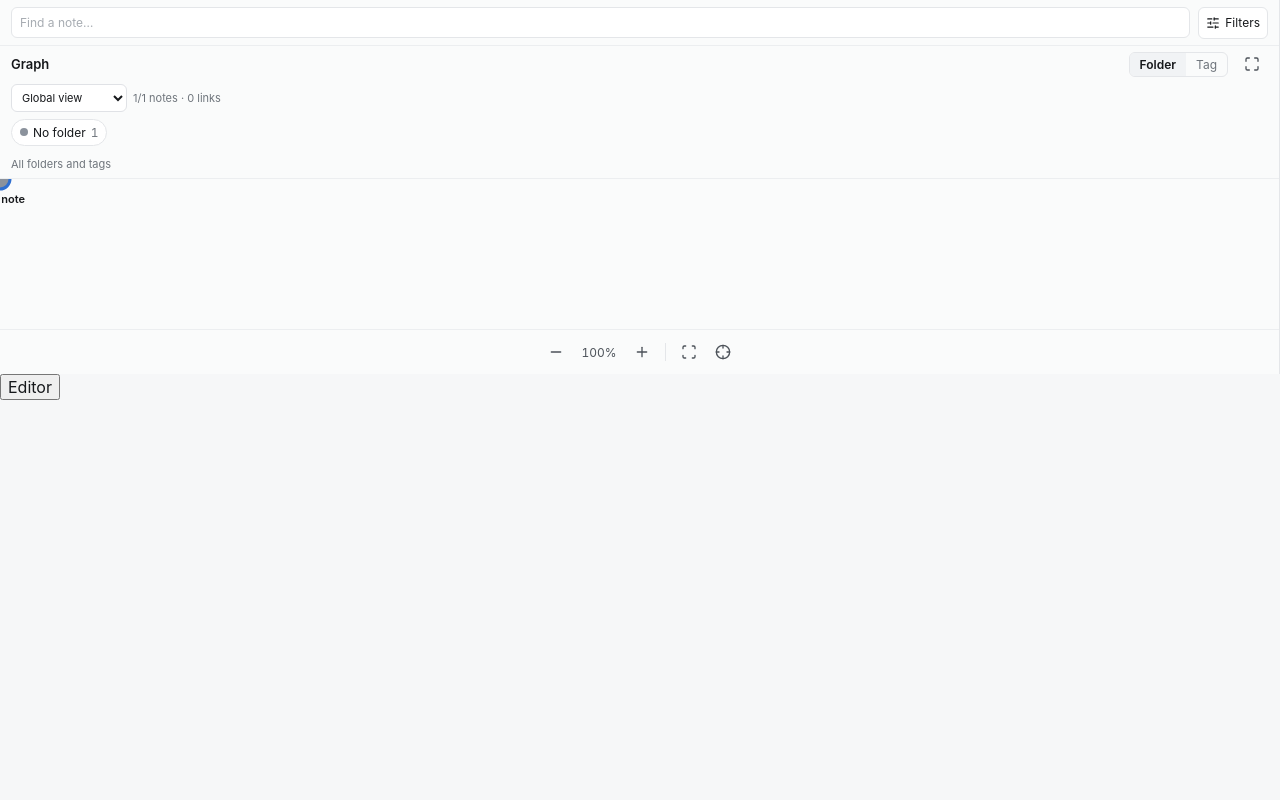
it: Graph navigation in expanded mode › does not expose navigation if the sidebar state changes while expanded
The width and height of the screenshot is (1280, 800).
Later steps or results of the test are not shown.
Click the button named "Expand graph". click: (1252, 64)
box: x1=1236 y1=48 x2=1268 y2=80
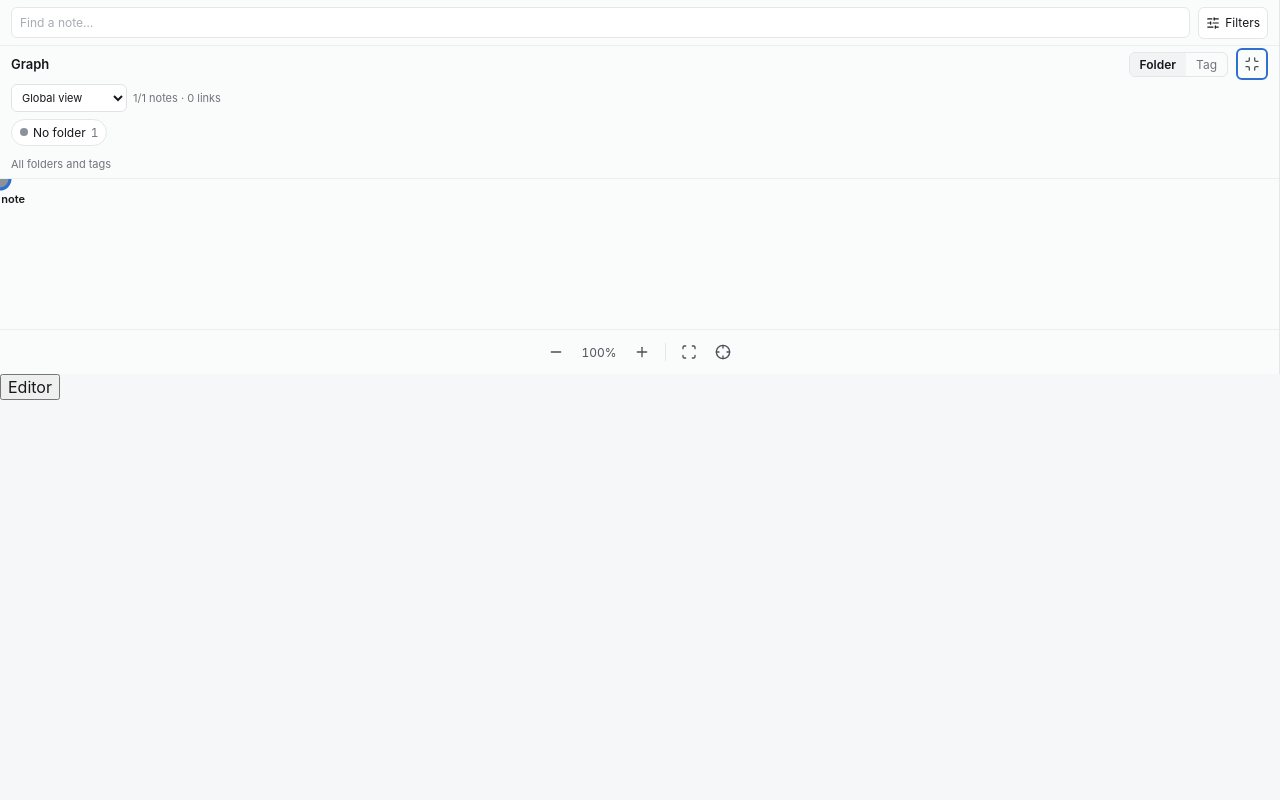
Expected: the dialog with class "is-expanded" is shown, x1=0 y1=0 x2=1279 y2=374
